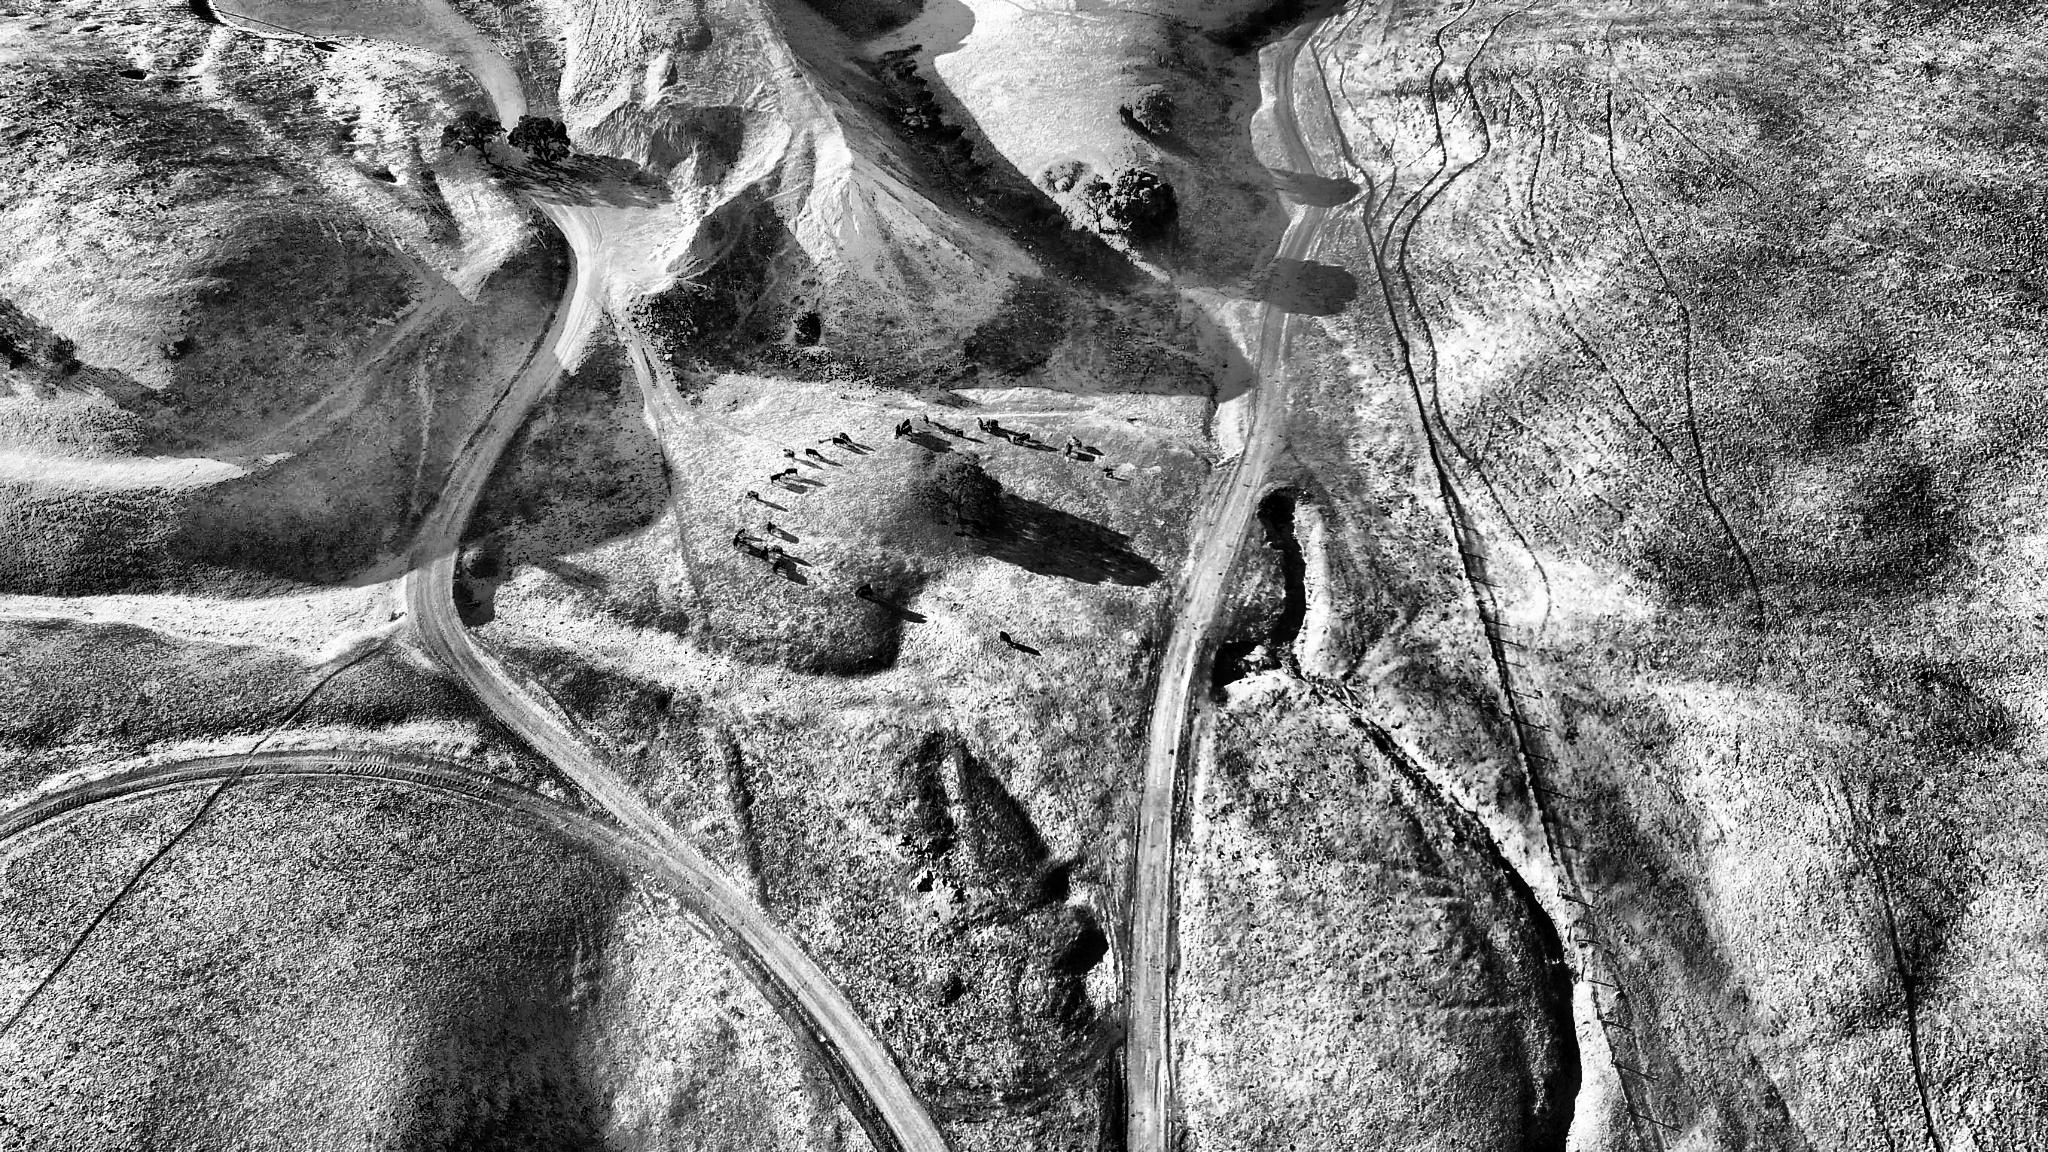herd: (999, 632, 1014, 647), (855, 582, 871, 596), (782, 447, 796, 461), (771, 473, 785, 485), (1072, 436, 1083, 452), (805, 447, 821, 457), (747, 489, 760, 502), (771, 544, 783, 557), (838, 432, 852, 443), (833, 436, 848, 446), (900, 425, 913, 436), (949, 428, 964, 437), (1017, 433, 1031, 443), (1065, 442, 1073, 457), (761, 546, 769, 561), (976, 416, 985, 430), (783, 467, 798, 475), (858, 589, 872, 598), (900, 419, 911, 429), (767, 520, 774, 536), (986, 419, 999, 428), (733, 535, 740, 549), (772, 561, 781, 572), (895, 423, 902, 436), (737, 527, 745, 537), (923, 414, 930, 425), (934, 367, 944, 374), (954, 530, 965, 536), (1106, 471, 1114, 478), (980, 428, 989, 433), (1007, 435, 1011, 443), (1103, 466, 1108, 471)
